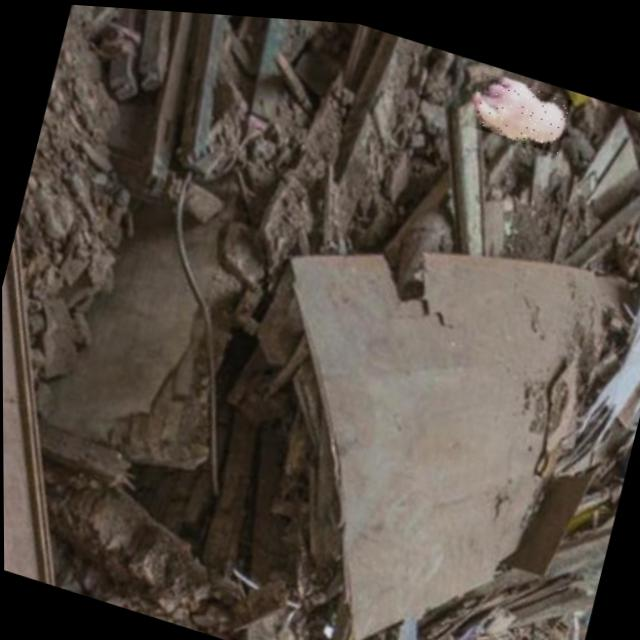Person in Rubble: (467, 64, 571, 147)
